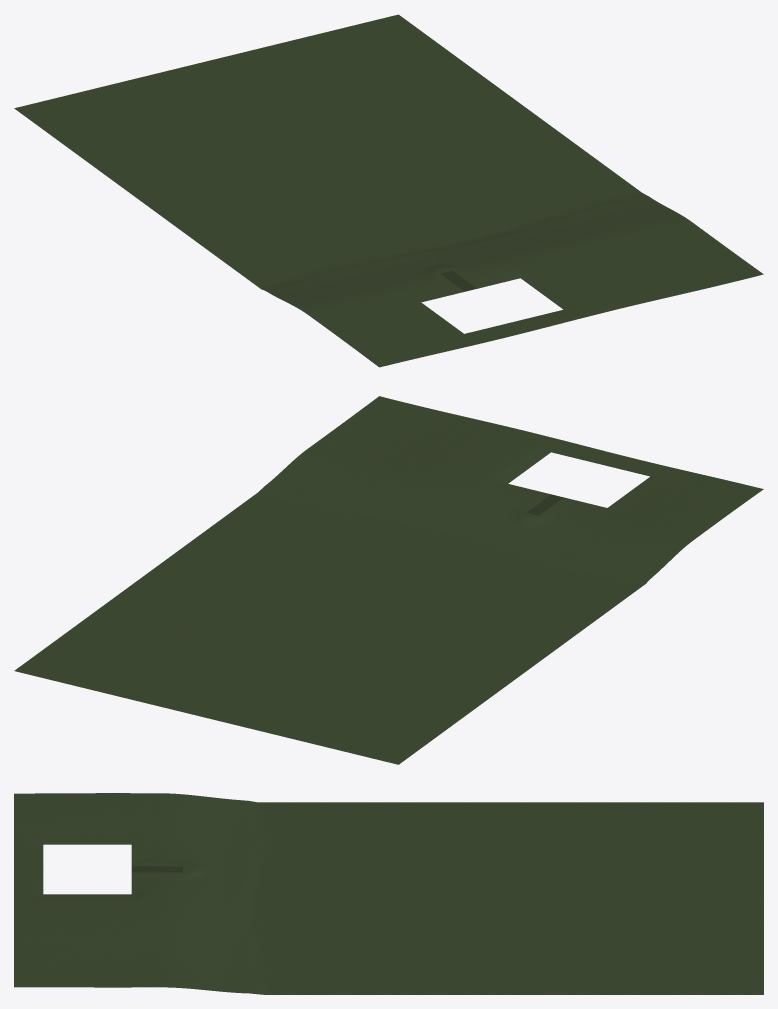
File: level_site_wld_11_terrain.glb
3 renders of one model, top to bottom at view 1: azimuth 30°, elevation 25°; view 2: azimuth 150°, elevation 25°; view 3: azimuth 270°, elevation 25°, orthographic. The views are drawn at different scales.
Visible parts, largest first — view 1: level_site_wld_11_terrain; view 2: level_site_wld_11_terrain; view 3: level_site_wld_11_terrain.
Part boxes in pixels (x1,y1,x2,y2): level_site_wld_11_terrain: (14,14,763,367); level_site_wld_11_terrain: (14,396,763,764); level_site_wld_11_terrain: (14,793,763,994).
Size of the model in its own units: 62 by 1.36 by 102.
Materials: 2 (2 with a texture image).
